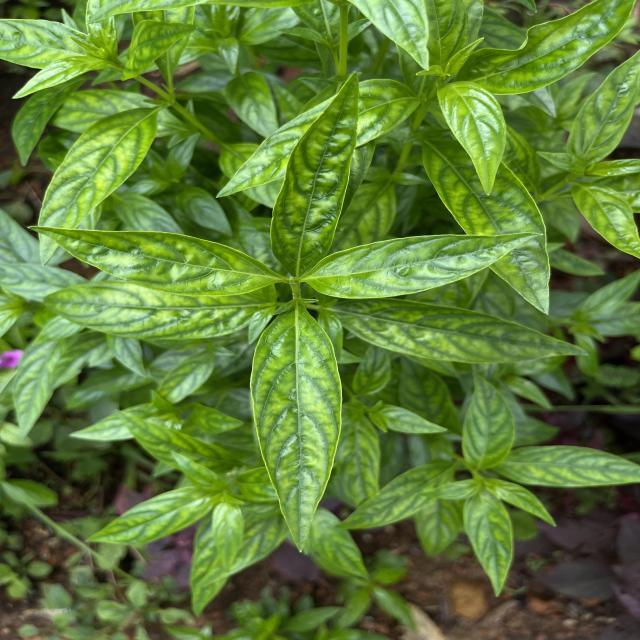Andrographis paniculata: (417, 132, 556, 315), (250, 302, 346, 554), (35, 104, 160, 268), (268, 68, 366, 274), (24, 222, 284, 299), (301, 229, 546, 301), (338, 298, 590, 366), (37, 284, 262, 343), (432, 79, 510, 197), (332, 461, 454, 532), (564, 49, 640, 162), (84, 483, 218, 546), (189, 501, 247, 619), (499, 443, 640, 490), (460, 490, 516, 600), (568, 181, 640, 261), (458, 371, 516, 468), (148, 350, 218, 412), (368, 402, 449, 436)
